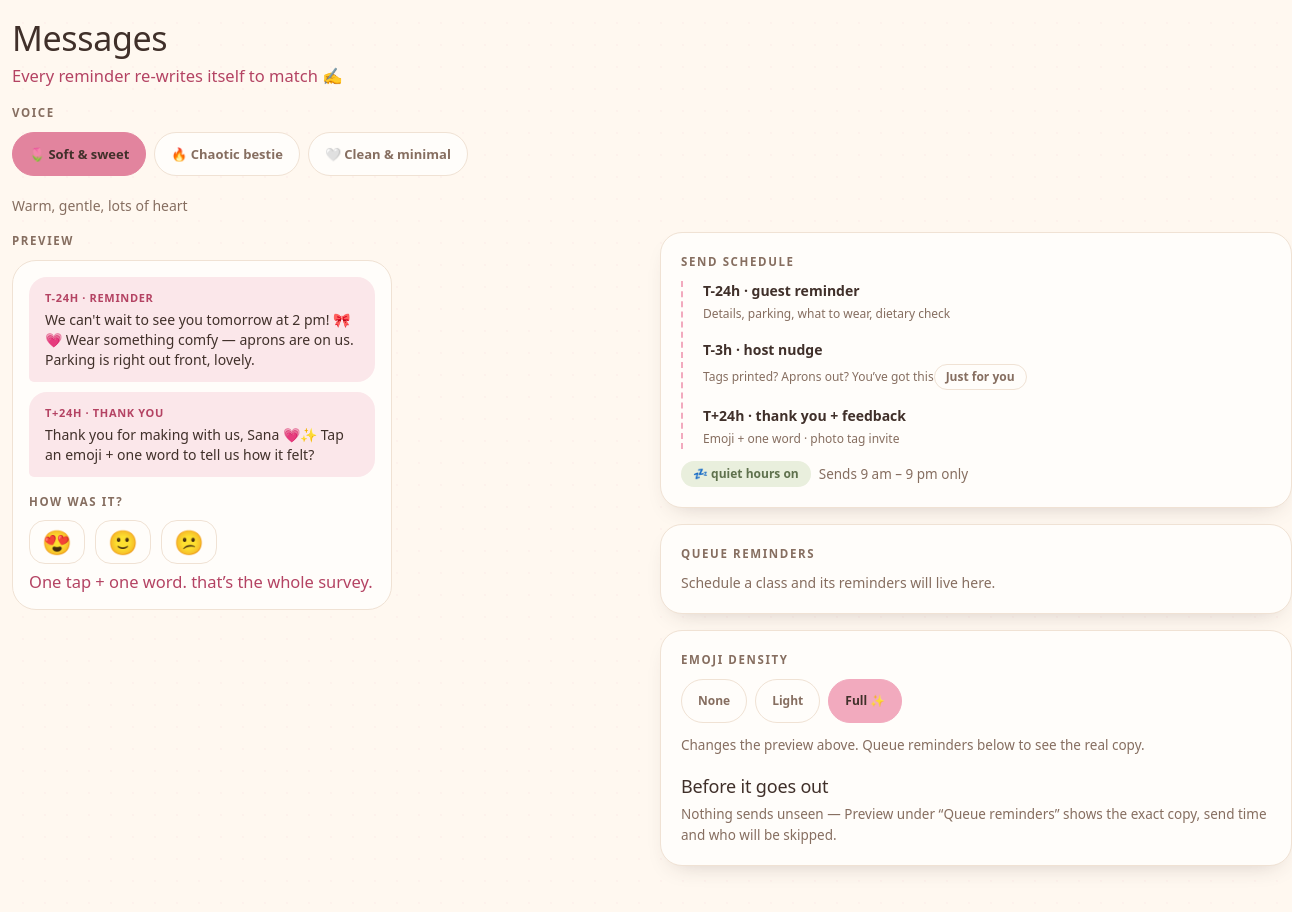
Test case: MessagesStudio › switches to clean & minimal
The width and height of the screenshot is (1292, 912).
Click the radio button labelled "🤍 Clean & minimal".
click(388, 154)  # box [308,132,468,176]
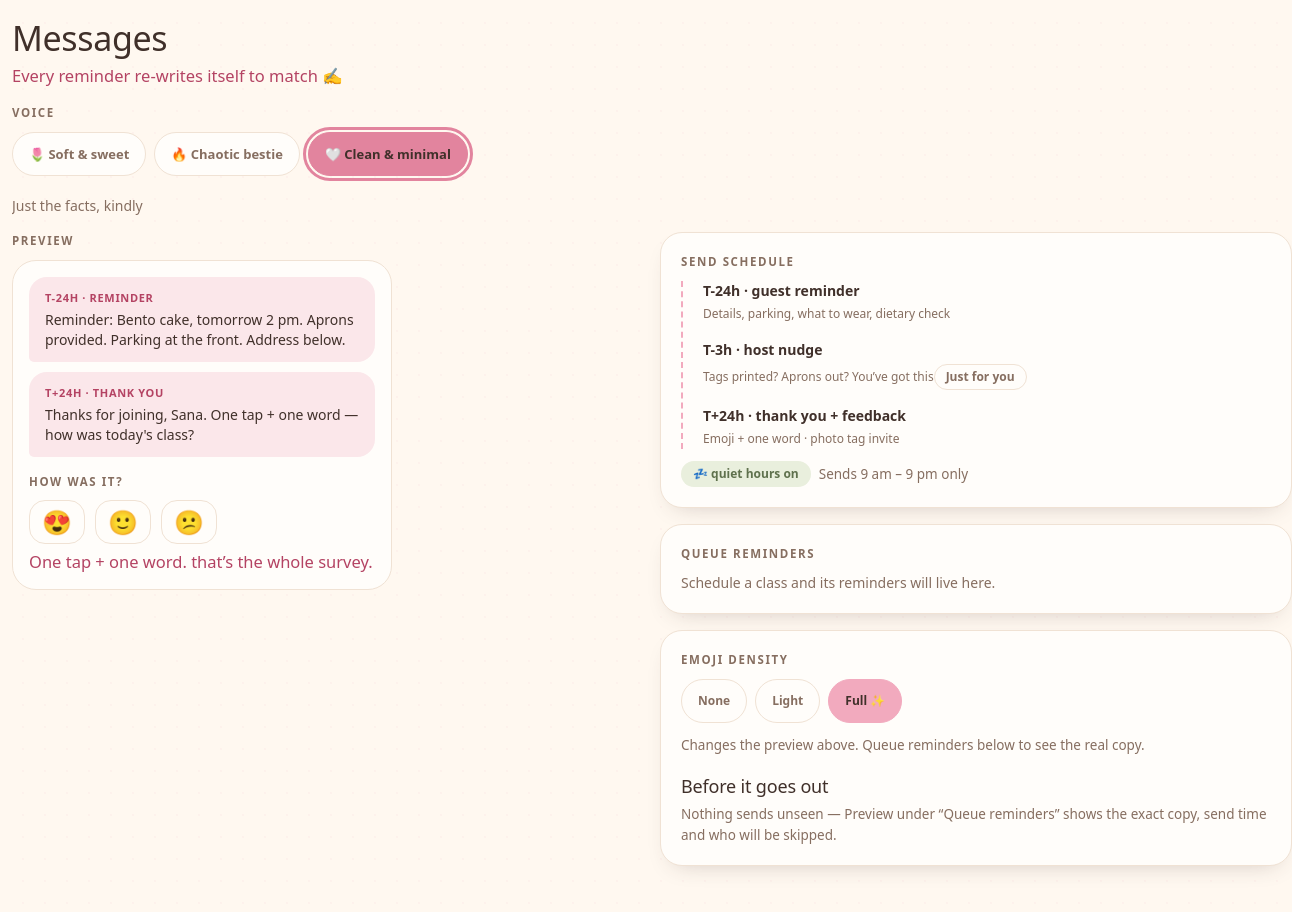
Check: the text "Reminder: Bento cake, tomorrow 2 pm" is shown, box [45,310,354,349]
